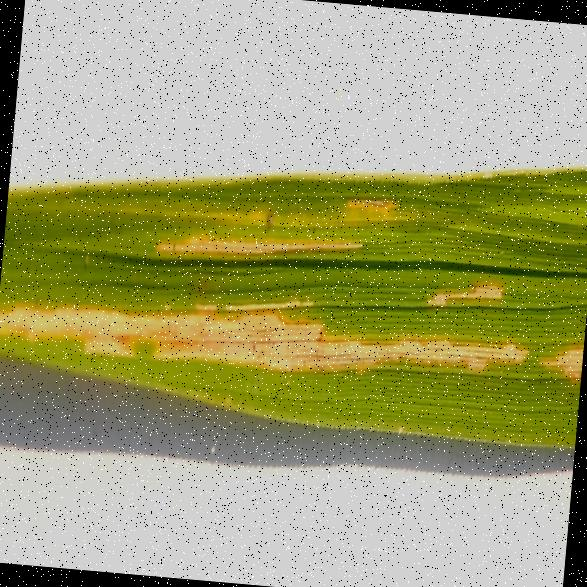Bacteria_Leaf_Blight: (0, 262, 586, 414), (143, 140, 536, 342)
